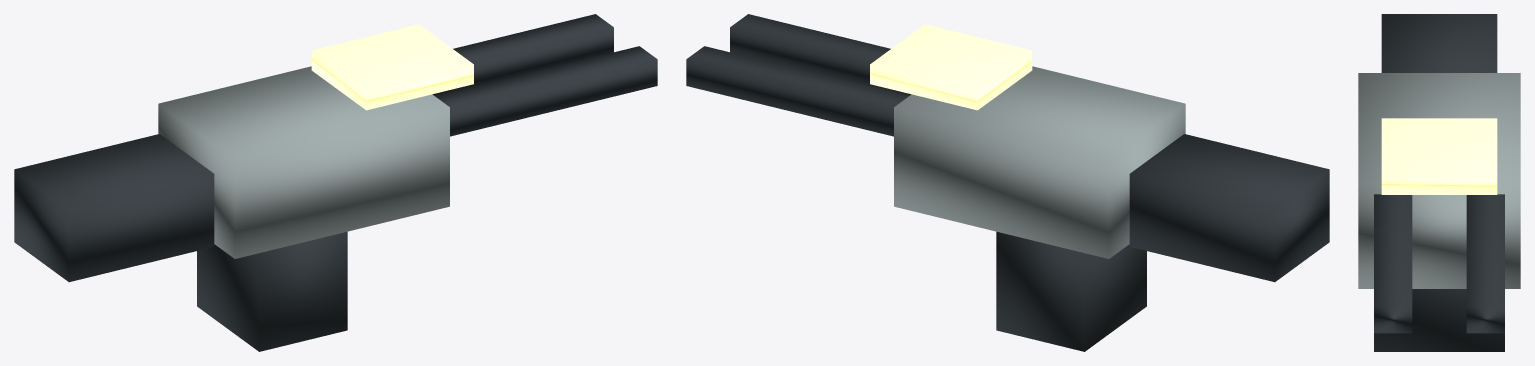
File: weapon-breacher-lod1.glb
3 renders of one model, left to right at view 1: azimuth 30°, elevation 25°; view 2: azimuth 150°, elevation 25°; view 3: azimuth 270°, elevation 25°, orthographic. The views are drawn at different scales.
Parts seen in each view (by area): view 1: breacher-receiver, breacher-stock, breacher-feed, breacher-twin-barrel, breacher-pump-glow, breacher-barrel-lower; view 2: breacher-receiver, breacher-stock, breacher-feed, breacher-barrel-lower, breacher-pump-glow, breacher-twin-barrel; view 3: breacher-receiver, breacher-pump-glow, breacher-stock, breacher-twin-barrel, breacher-barrel-lower, breacher-feed.
Boxes of the visible parts, left/top/right/bottom form: breacher-receiver: left=158, top=66, right=449, bottom=258; breacher-stock: left=14, top=134, right=214, bottom=282; breacher-feed: left=197, top=231, right=347, bottom=351; breacher-twin-barrel: left=435, top=46, right=657, bottom=136; breacher-pump-glow: left=311, top=24, right=473, bottom=110; breacher-barrel-lower: left=432, top=14, right=613, bottom=95; breacher-receiver: left=894, top=66, right=1185, bottom=258; breacher-stock: left=1129, top=134, right=1329, bottom=282; breacher-feed: left=996, top=231, right=1146, bottom=351; breacher-barrel-lower: left=686, top=46, right=908, bottom=136; breacher-pump-glow: left=870, top=24, right=1032, bottom=110; breacher-twin-barrel: left=730, top=14, right=911, bottom=95; breacher-receiver: left=1358, top=73, right=1520, bottom=288; breacher-pump-glow: left=1381, top=118, right=1497, bottom=194; breacher-stock: left=1381, top=14, right=1497, bottom=72; breacher-twin-barrel: left=1374, top=194, right=1412, bottom=333; breacher-barrel-lower: left=1466, top=194, right=1504, bottom=333; breacher-feed: left=1374, top=289, right=1504, bottom=351.
Bounding box in the file's own units: 1.85 × 0.7 × 0.42.
